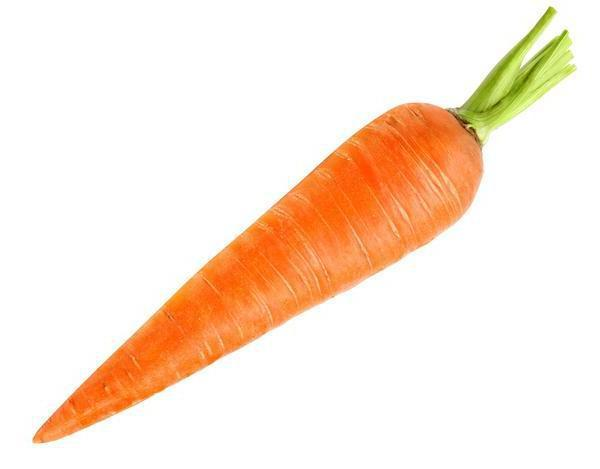carrot: (20, 17, 576, 447)
